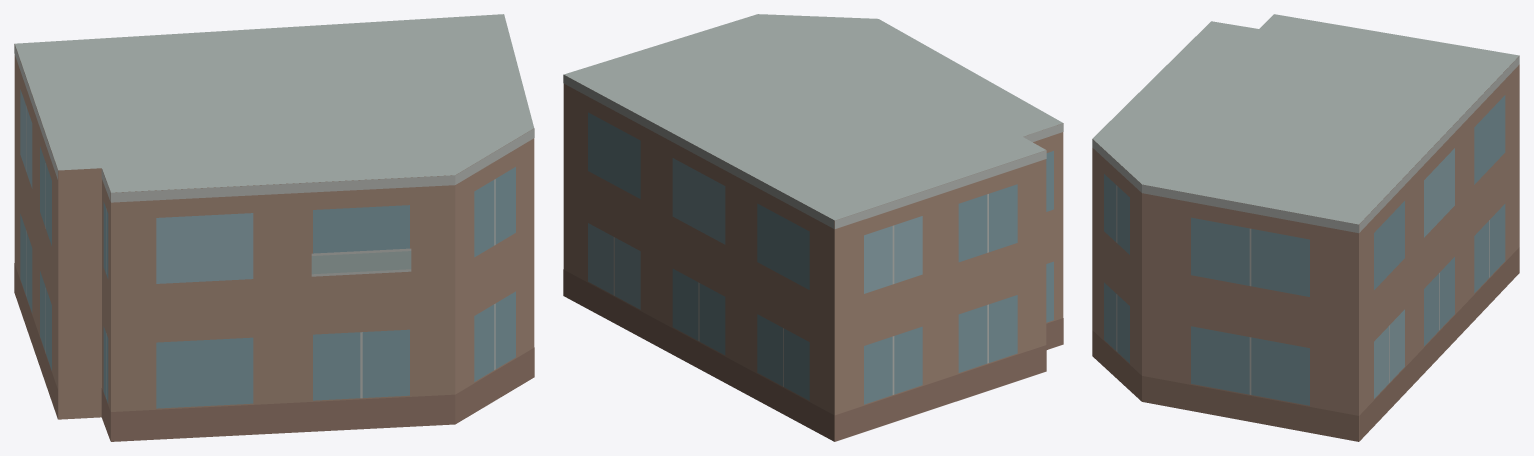
Rendered from survey-upis-32810628.glb.
3 renders of one model, left to right at view 1: azimuth 30°, elevation 25°; view 2: azimuth 150°, elevation 25°; view 3: azimuth 270°, elevation 25°, orthographic. The views are drawn at different scales.
Parts seen in each view (by area): view 1: survey-upis-32810628.tmp; view 2: survey-upis-32810628.tmp; view 3: survey-upis-32810628.tmp.
Part boxes in pixels (x1,y1,x2,y2): survey-upis-32810628.tmp: [14, 14, 534, 441]; survey-upis-32810628.tmp: [563, 14, 1063, 441]; survey-upis-32810628.tmp: [1092, 14, 1519, 441].
Bounding box in the file's own units: 12.68 × 6.1 × 10.88.
